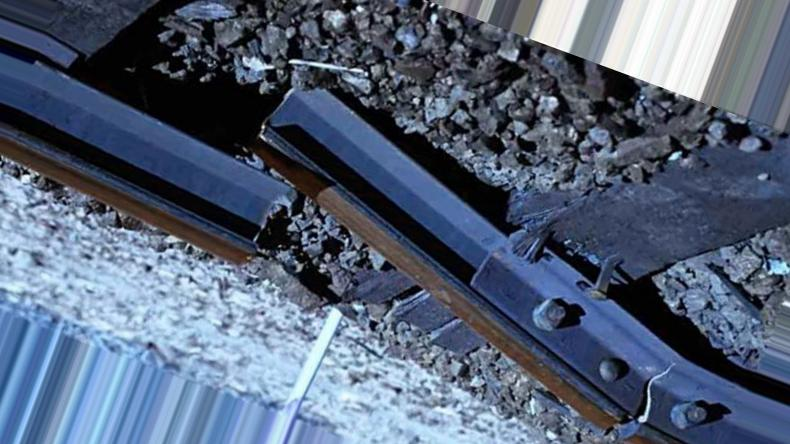tracks_fault: (233, 79, 380, 268)
